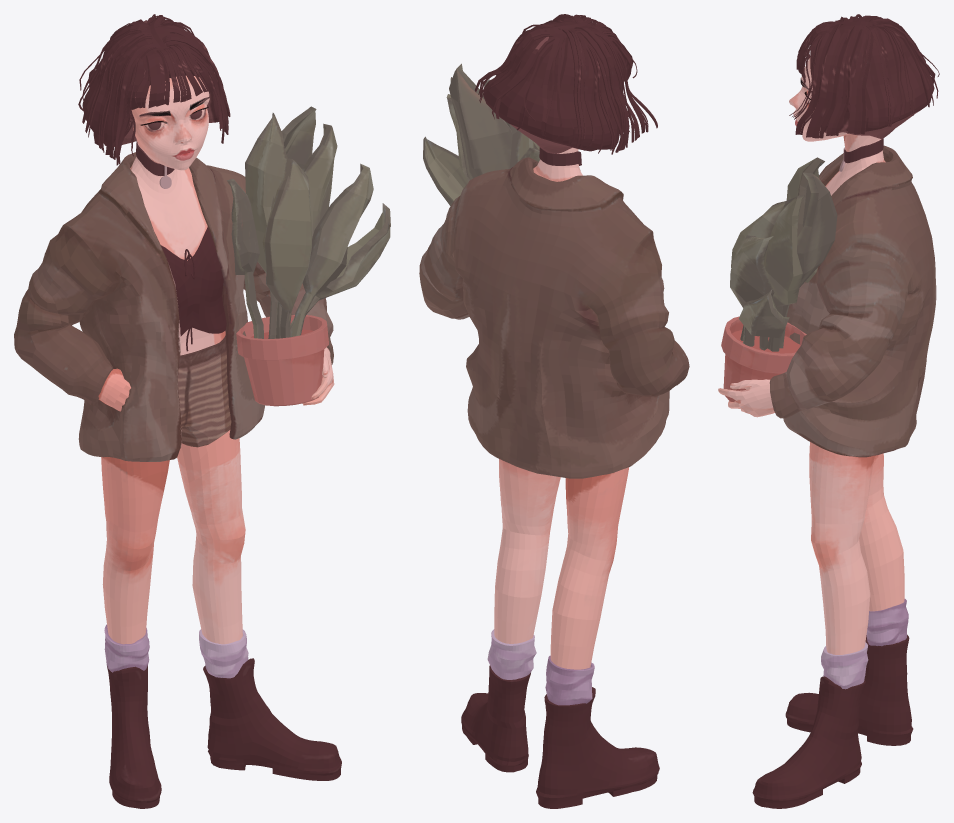
The model's file is Design.gltf.
3 views of the same model, side by side, from view 1: azimuth 30°, elevation 25°; view 2: azimuth 150°, elevation 25°; view 3: azimuth 270°, elevation 25° (orthographic). The views are drawn at different scales.
Visible parts, largest first — view 1: polySurface80, polySurface74, polySurface87, polySurface67, polySurface86, polySurface66, polySurface75, polySurface68, polySurface85, polySurface76, polySurface69, hairStrands_v2:polySurface28 (+7 smaller); view 2: polySurface80, polySurface74, hairStrands_v2:polySurface28, polySurface86, polySurface87, polySurface102, polySurface77, polySurface62, polySurface78, polySurface69, polySurface60, hairStrands_v2:Group52555 (+1 smaller); view 3: polySurface80, polySurface74, polySurface87, polySurface86, hairStrands_v2:polySurface28, polySurface67, polySurface72, polySurface102, polySurface68, polySurface62, polySurface77, polySurface78 (+15 smaller).
Boxes of the visible parts, x1=… form: polySurface80: x1=14, y1=152, x2=333, y2=461; polySurface74: x1=101, y1=143, x2=245, y2=644; polySurface87: x1=203, y1=658, x2=341, y2=780; polySurface67: x1=236, y1=315, x2=328, y2=406; polySurface86: x1=107, y1=665, x2=161, y2=808; polySurface66: x1=262, y1=158, x2=311, y2=338; polySurface75: x1=178, y1=331, x2=231, y2=447; polySurface68: x1=290, y1=163, x2=373, y2=336; polySurface85: x1=131, y1=75, x2=209, y2=170; polySurface76: x1=161, y1=226, x2=226, y2=336; polySurface69: x1=245, y1=113, x2=287, y2=338; hairStrands_v2:polySurface28: x1=82, y1=19, x2=219, y2=146; polySurface80: x1=419, y1=157, x2=689, y2=478; polySurface74: x1=494, y1=147, x2=629, y2=669; hairStrands_v2:polySurface28: x1=483, y1=17, x2=624, y2=153; polySurface86: x1=536, y1=687, x2=659, y2=808; polySurface87: x1=461, y1=665, x2=530, y2=772; polySurface102: x1=449, y1=63, x2=512, y2=179; polySurface77: x1=545, y1=655, x2=594, y2=705; polySurface62: x1=423, y1=136, x2=468, y2=205; polySurface78: x1=487, y1=629, x2=536, y2=679; polySurface69: x1=484, y1=79, x2=534, y2=168; polySurface60: x1=539, y1=147, x2=581, y2=165; hairStrands_v2:Group52555: x1=541, y1=33, x2=560, y2=135; polySurface80: x1=769, y1=145, x2=936, y2=457; polySurface74: x1=809, y1=134, x2=904, y2=654; polySurface87: x1=752, y1=676, x2=865, y2=808; polySurface86: x1=785, y1=634, x2=913, y2=745; hairStrands_v2:polySurface28: x1=810, y1=17, x2=934, y2=138; polySurface67: x1=721, y1=316, x2=806, y2=401; polySurface72: x1=765, y1=194, x2=805, y2=351; polySurface102: x1=767, y1=172, x2=837, y2=349; polySurface68: x1=730, y1=235, x2=774, y2=346; polySurface62: x1=738, y1=289, x2=789, y2=350; polySurface77: x1=866, y1=599, x2=908, y2=646; polySurface78: x1=821, y1=642, x2=868, y2=689.
Bounding box in the file's own units: 82.65 × 191 × 52.97.
1 material, 1 textured.
